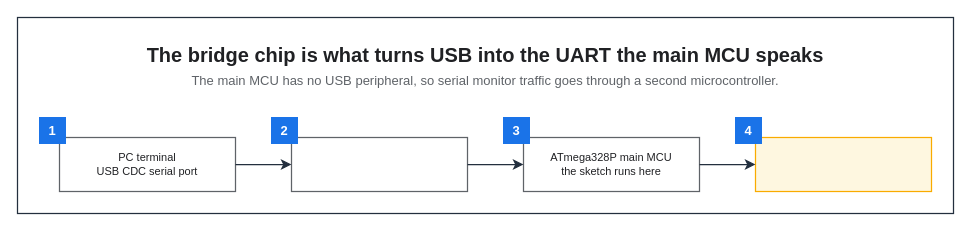
Image size: 972x232. Some labels were removed from this diagram. The shapes that lost their labels are listed below. From the top down, each one's box as (x1, y1, x2, y2) in pixels, then its label:
(290, 136, 468, 192): ATmega16U2 bridge USB to UART
(754, 136, 932, 192): External UART device shares the same pins
